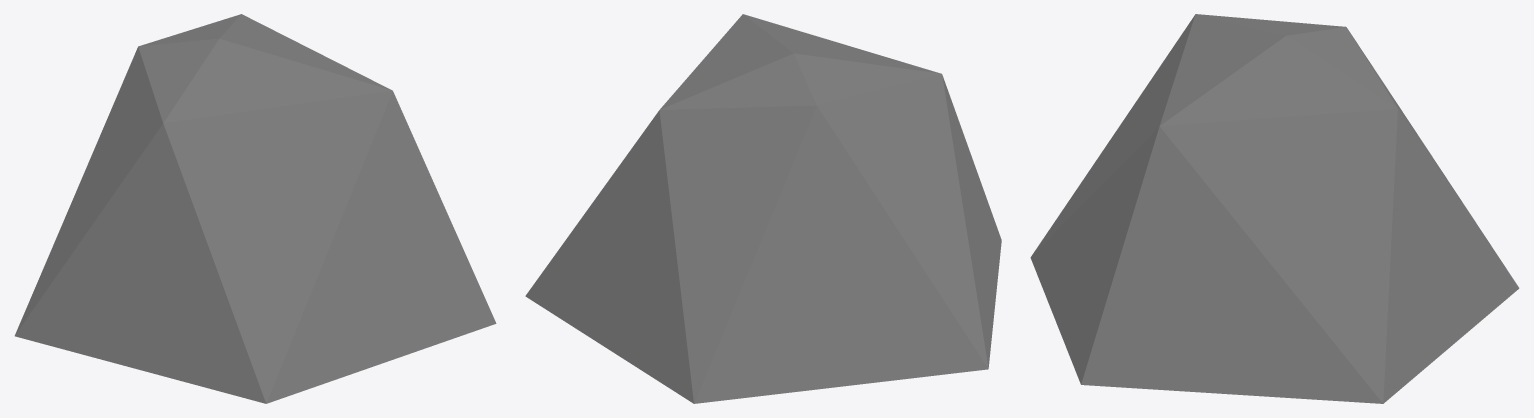
Rendered from object_56_lev1.glb.
The picture shows the model from 3 angles, left to right: view 1: azimuth 30°, elevation 25°; view 2: azimuth 150°, elevation 25°; view 3: azimuth 270°, elevation 25°; orthographic projection. The views are drawn at different scales.
Parts seen in each view (by area): view 1: object_56_lev1; view 2: object_56_lev1; view 3: object_56_lev1.
Part boxes in pixels (x1=…): object_56_lev1: x1=14, y1=14, x2=496, y2=403; object_56_lev1: x1=525, y1=14, x2=1001, y2=403; object_56_lev1: x1=1030, y1=14, x2=1519, y2=403.
Bounding box in the file's own units: 0.2645 × 0.1562 × 0.2653.
1 material, 1 textured.
